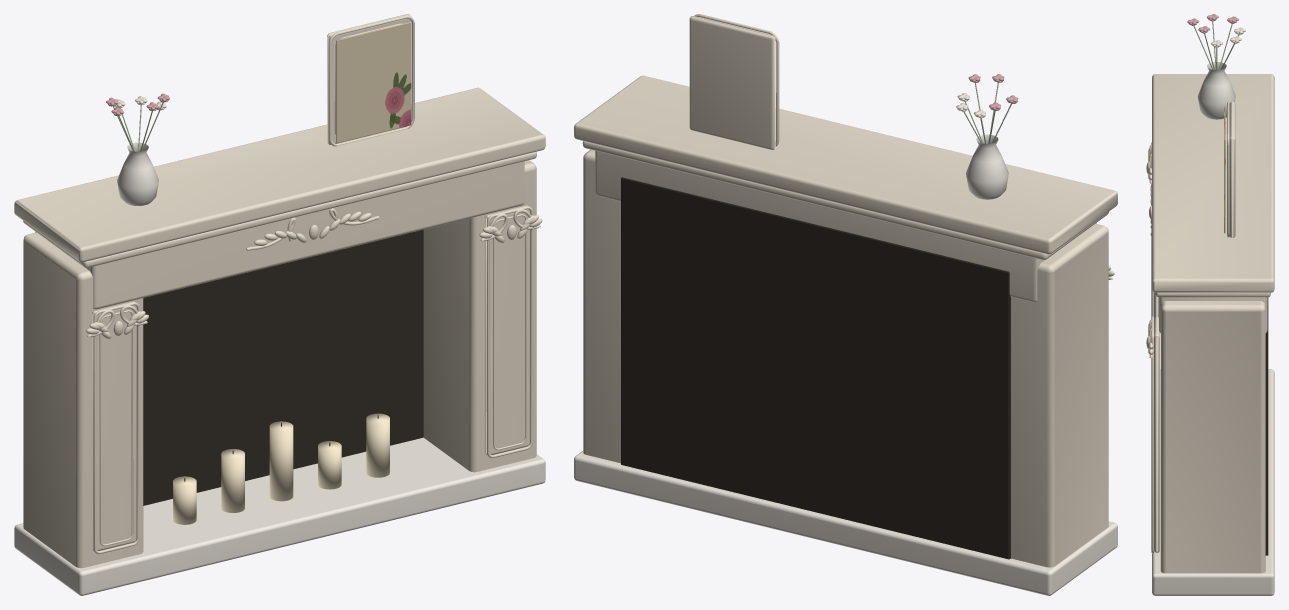
File: fireplace.glb
3 views of the same model, side by side, from view 1: azimuth 30°, elevation 25°; view 2: azimuth 150°, elevation 25°; view 3: azimuth 270°, elevation 25° (orthographic). The views are drawn at different scales.
Parts seen in each view (by area): view 1: fireplace__Warm aged ivory lacquer, fireplace__Sooted fireplace interior, fireplace__Honed ivory marble, fireplace__Rose botanical print on linen, fireplace__Ivory beeswax, fireplace__Glazed ivory ceramic; view 2: fireplace__Sooted fireplace interior, fireplace__Warm aged ivory lacquer, fireplace__Honed ivory marble, fireplace__Glazed ivory ceramic; view 3: fireplace__Warm aged ivory lacquer, fireplace__Honed ivory marble, fireplace__Glazed ivory ceramic, fireplace__Sooted fireplace interior, fireplace__Sage linen, fireplace__Dusty rose washed cotton, fireplace__Rose botanical print on linen, fireplace__Natural cream linen.
Boxes of the visible parts, x1=… form: fireplace__Warm aged ivory lacquer: x1=14, y1=14, x2=545, y2=568; fireplace__Sooted fireplace interior: x1=143, y1=229, x2=423, y2=505; fireplace__Honed ivory marble: x1=14, y1=437, x2=545, y2=595; fireplace__Rose botanical print on linen: x1=336, y1=22, x2=411, y2=143; fireplace__Ivory beeswax: x1=173, y1=413, x2=389, y2=524; fireplace__Glazed ivory ceramic: x1=117, y1=142, x2=158, y2=205; fireplace__Sooted fireplace interior: x1=621, y1=177, x2=1010, y2=559; fireplace__Warm aged ivory lacquer: x1=574, y1=14, x2=1117, y2=567; fireplace__Honed ivory marble: x1=574, y1=451, x2=1117, y2=595; fireplace__Glazed ivory ceramic: x1=966, y1=134, x2=1008, y2=199; fireplace__Warm aged ivory lacquer: x1=1146, y1=74, x2=1274, y2=573; fireplace__Honed ivory marble: x1=1152, y1=369, x2=1274, y2=595; fireplace__Glazed ivory ceramic: x1=1197, y1=62, x2=1235, y2=119; fireplace__Sooted fireplace interior: x1=1265, y1=297, x2=1268, y2=555; fireplace__Sage linen: x1=1193, y1=21, x2=1238, y2=69; fireplace__Dusty rose washed cotton: x1=1187, y1=14, x2=1238, y2=33; fireplace__Rose botanical print on linen: x1=1224, y1=106, x2=1225, y2=233; fireplace__Natural cream linen: x1=1211, y1=27, x2=1245, y2=47.
Bounding box in the file's own units: 1.4 × 1.32 × 0.366.
9 materials, 1 textured.
